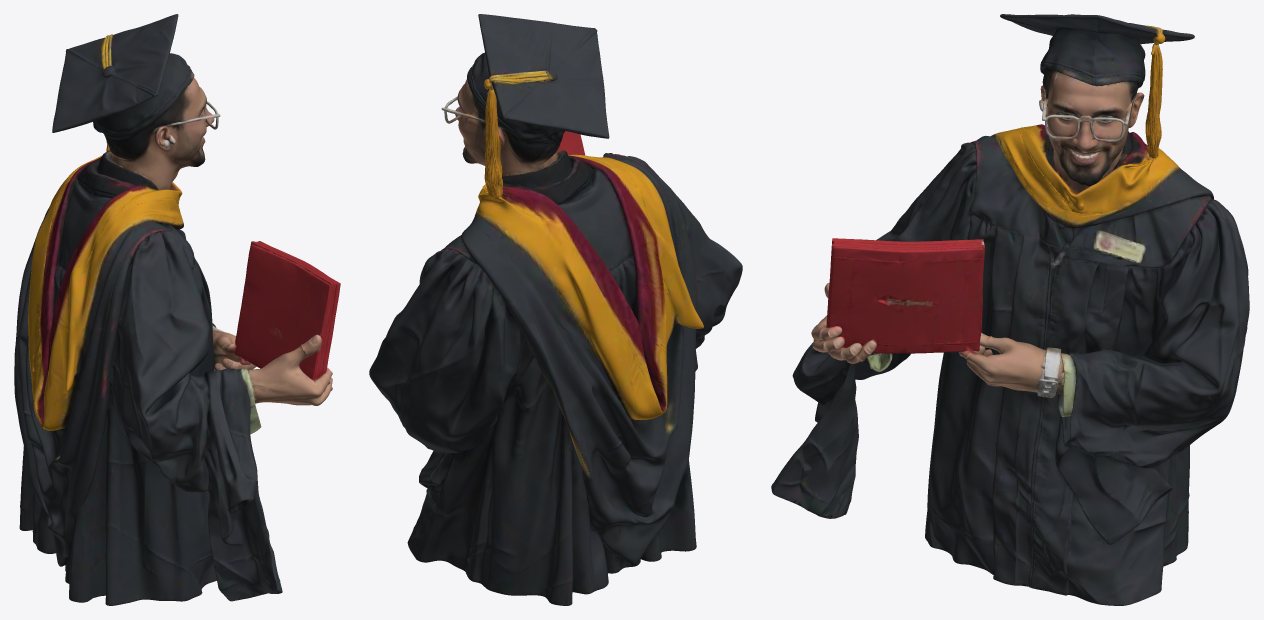
The model's file is graduation.glb.
3 views of the same model, side by side, from view 1: azimuth 30°, elevation 25°; view 2: azimuth 150°, elevation 25°; view 3: azimuth 270°, elevation 25° (orthographic). The views are drawn at different scales.
Parts seen in each view (by area): view 1: tripo_node_04b544c7-bcdc-4d6a-a1c3-24856ff91550; view 2: tripo_node_04b544c7-bcdc-4d6a-a1c3-24856ff91550; view 3: tripo_node_04b544c7-bcdc-4d6a-a1c3-24856ff91550.
Part boxes in pixels (bbox=[...]): tripo_node_04b544c7-bcdc-4d6a-a1c3-24856ff91550: bbox=[14, 14, 340, 605]; tripo_node_04b544c7-bcdc-4d6a-a1c3-24856ff91550: bbox=[369, 14, 742, 605]; tripo_node_04b544c7-bcdc-4d6a-a1c3-24856ff91550: bbox=[771, 14, 1249, 605].
Bounding box in the file's own units: 0.4416 × 0.9797 × 0.7589.
Materials: 1 (1 with a texture image).
